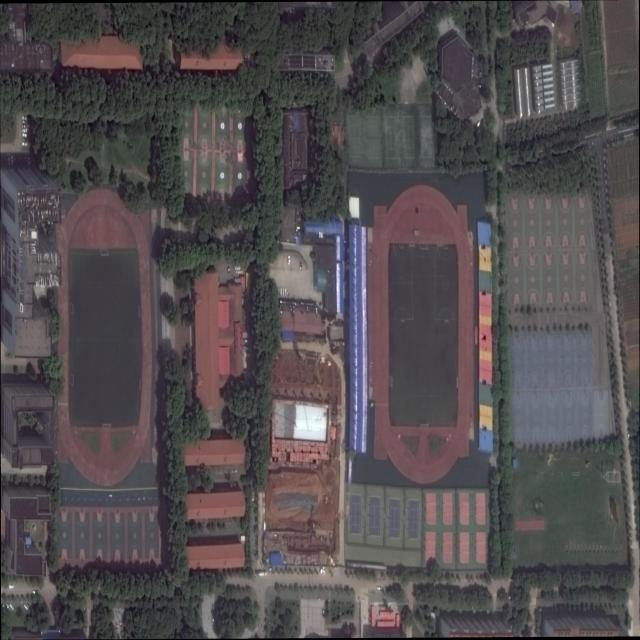small-vehicle: (6, 602, 11, 612), (9, 603, 14, 611), (22, 115, 27, 121), (119, 620, 123, 627), (24, 604, 28, 611), (9, 585, 14, 590), (22, 142, 27, 146), (22, 133, 27, 137), (116, 622, 118, 630), (22, 129, 27, 132), (22, 125, 26, 128), (22, 121, 26, 124), (22, 139, 27, 141)
